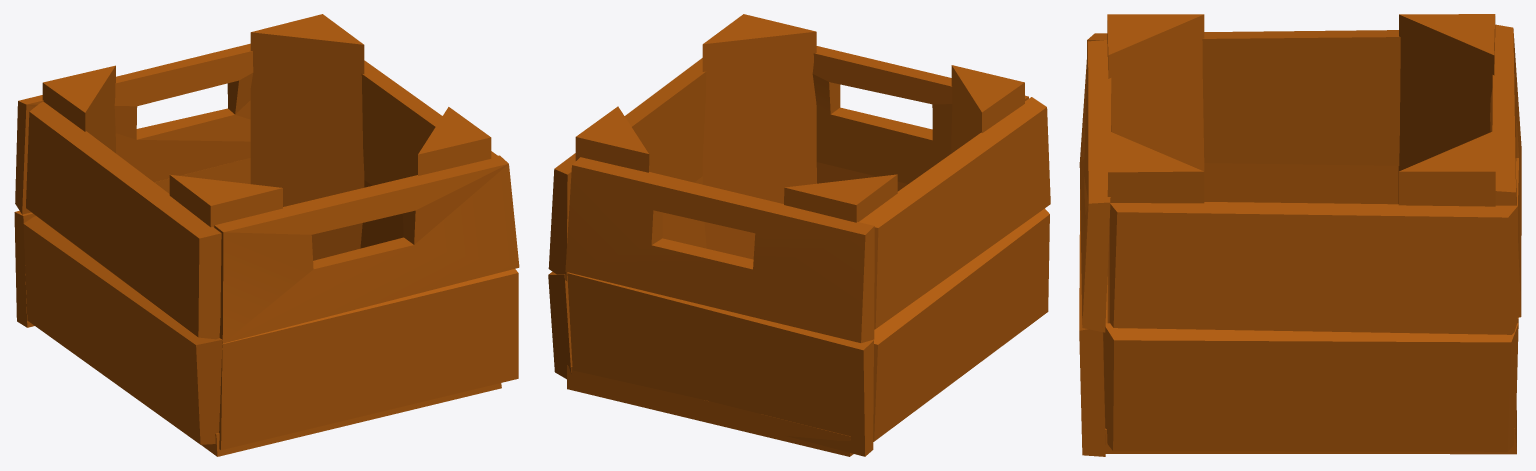
Rendered from Crate_2.fbx.
3 renders of one model, left to right at view 1: azimuth 30°, elevation 25°; view 2: azimuth 150°, elevation 25°; view 3: azimuth 270°, elevation 25°, orthographic. The views are drawn at different scales.
Visible parts, largest first — view 1: Crate_2; view 2: Crate_2; view 3: Crate_2.
Part boxes in pixels (bbox=[...]): Crate_2: bbox=[14, 14, 519, 456]; Crate_2: bbox=[548, 14, 1050, 456]; Crate_2: bbox=[1079, 14, 1521, 456].
Size of the model in its own units: 15.75 by 11.5 by 16.29.
